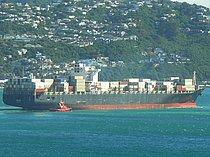Ship: (1, 60, 208, 115)
